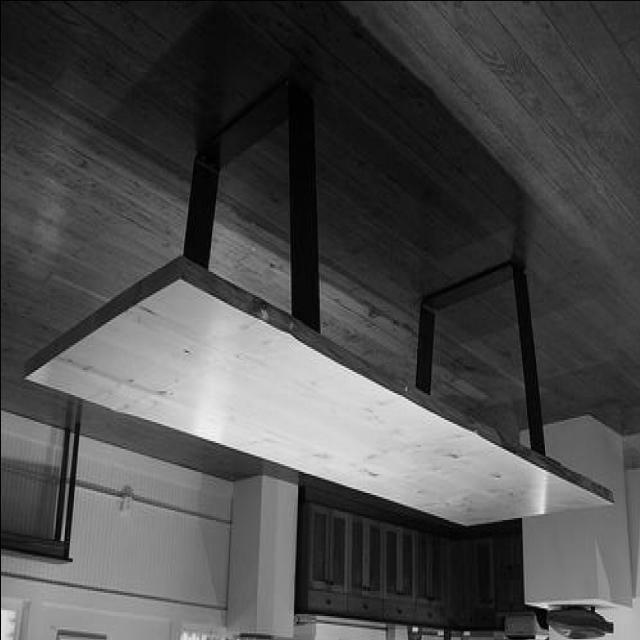table: (22, 68, 616, 530)
